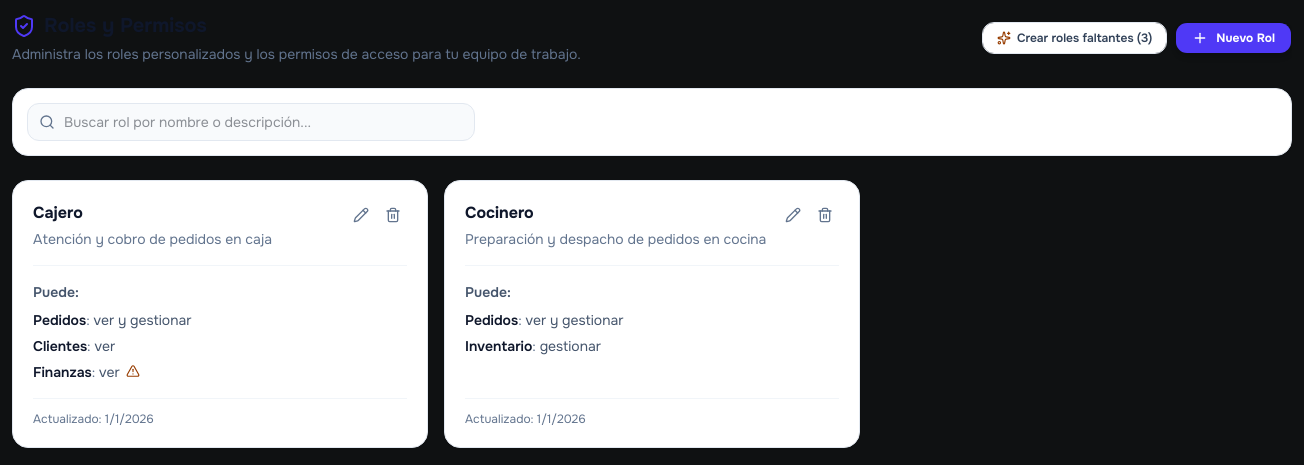
Test: RolesManager Component (TDD) › filters roles by search query
The width and height of the screenshot is (1304, 465).
Expected: the heading "Cajero" is shown, [33,201,83,225]
In the field with placeholder "Buscar rol por nombre o descripción...": (251, 122) [27,103,475,141], type "Cocina"
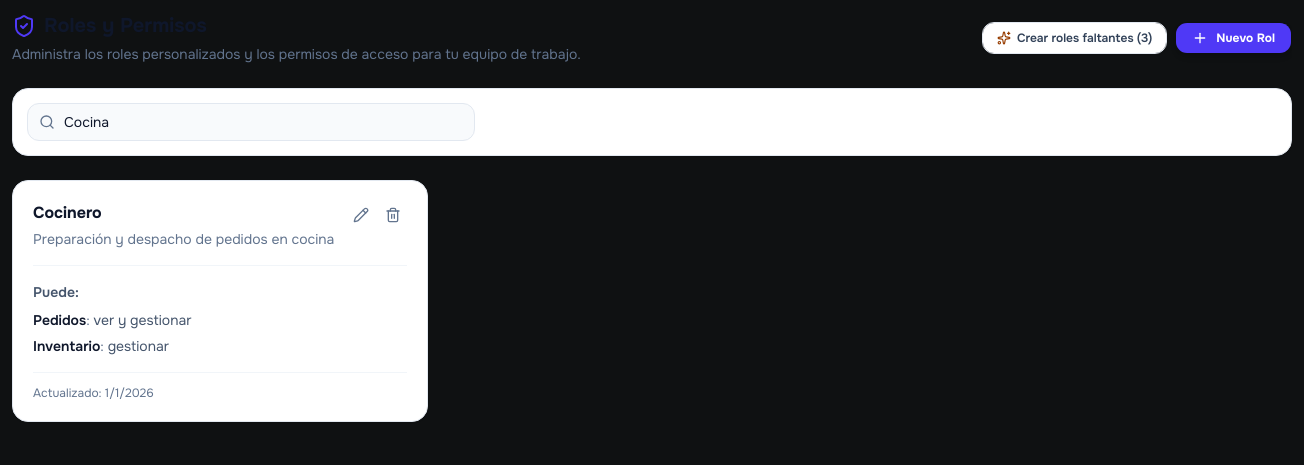
Expected: the heading "Cocinero" is shown, [33,201,102,225]
Result: the heading "Cajero" is gone
